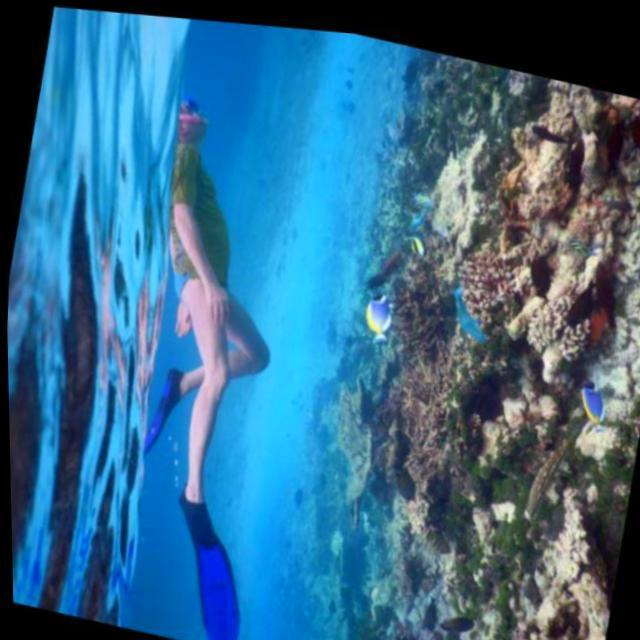Dead Coral: (358, 242, 478, 506)
